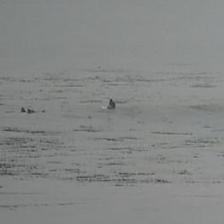surfer: (26, 108, 45, 114), (108, 99, 116, 110), (19, 106, 26, 113)
